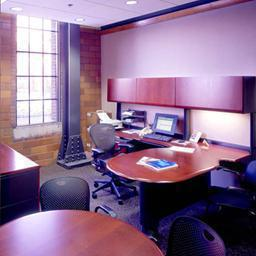Ventana: (14, 17, 62, 127)
